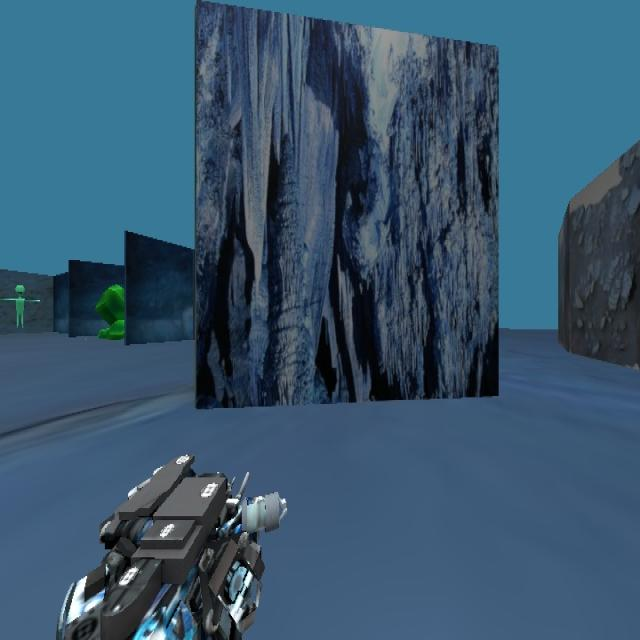Alien: (0, 223, 40, 383)
Diamon: (94, 281, 124, 340)
